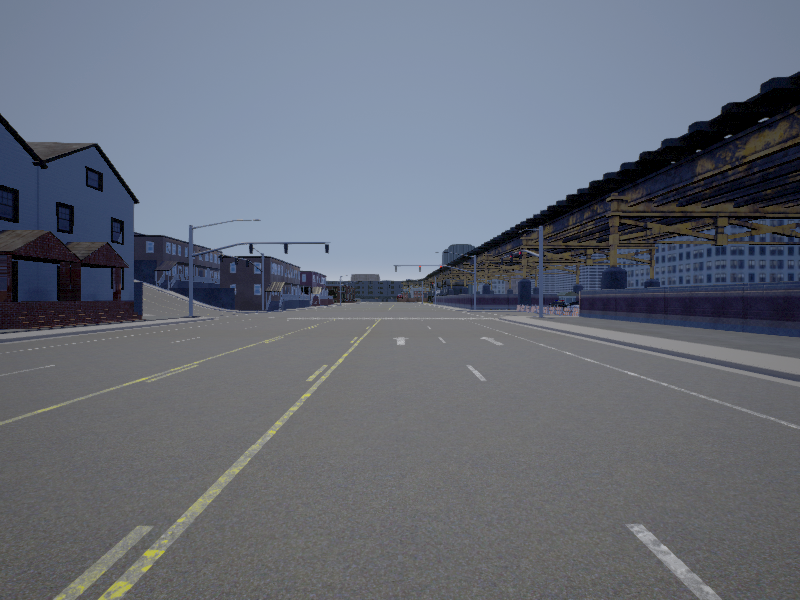Attacker: (395, 293, 406, 303)
